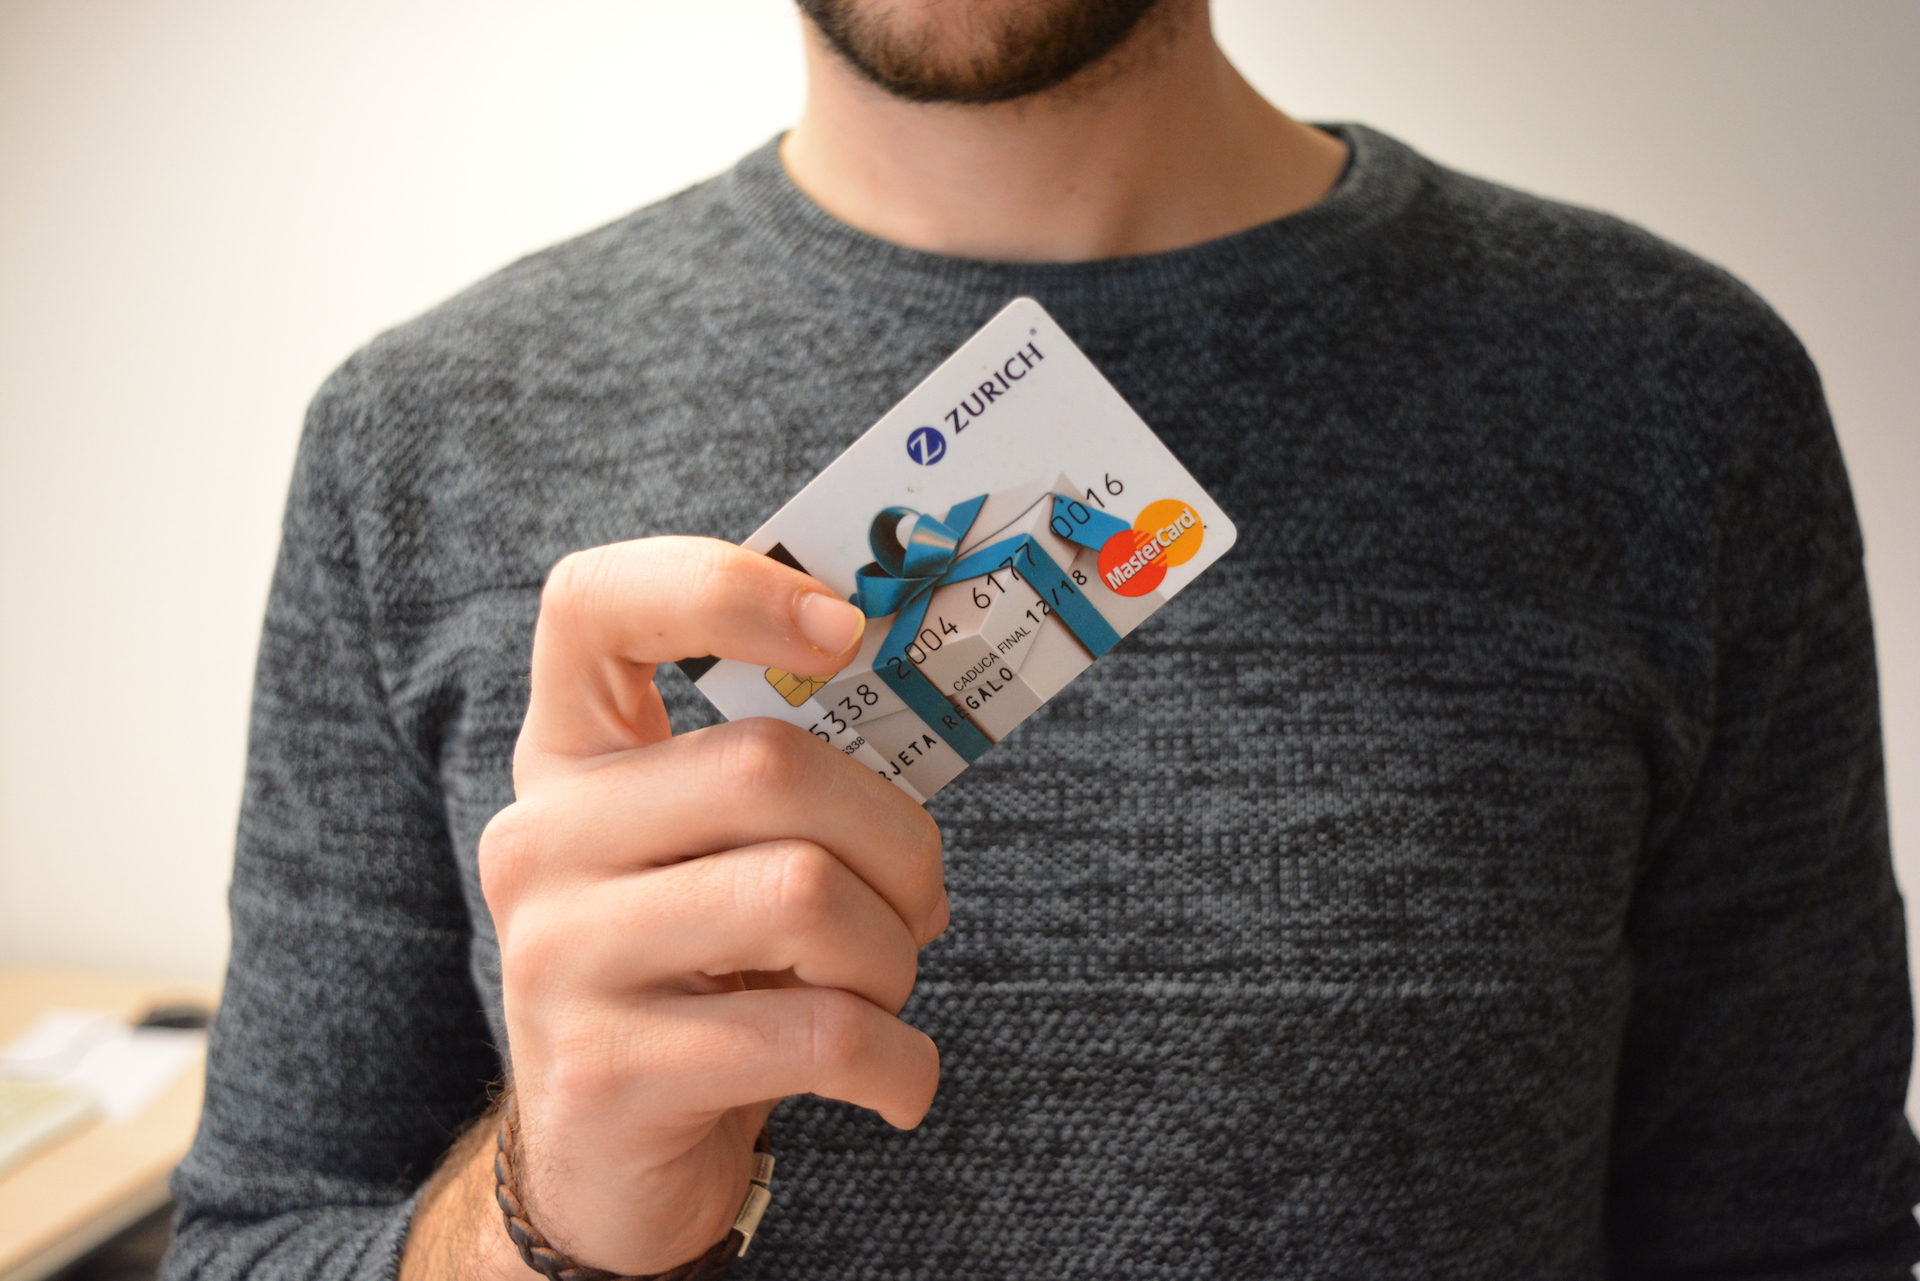tarjeta: (666, 295, 1241, 811)
